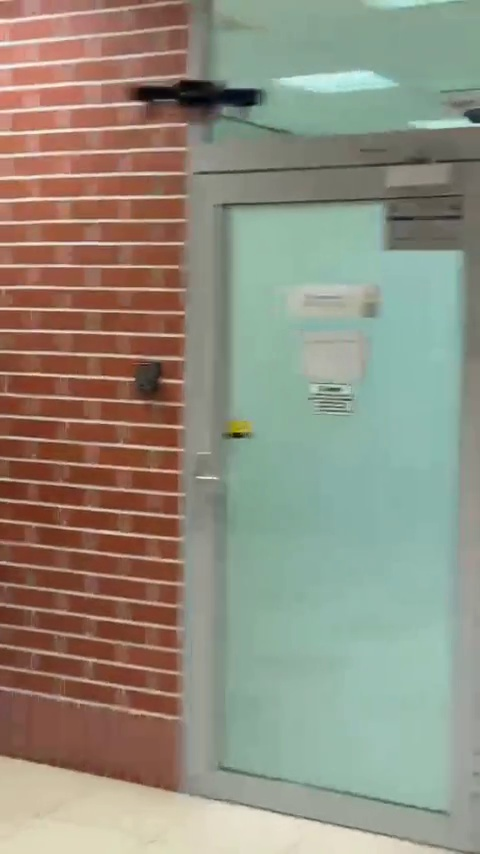drone: (119, 82, 255, 132)
